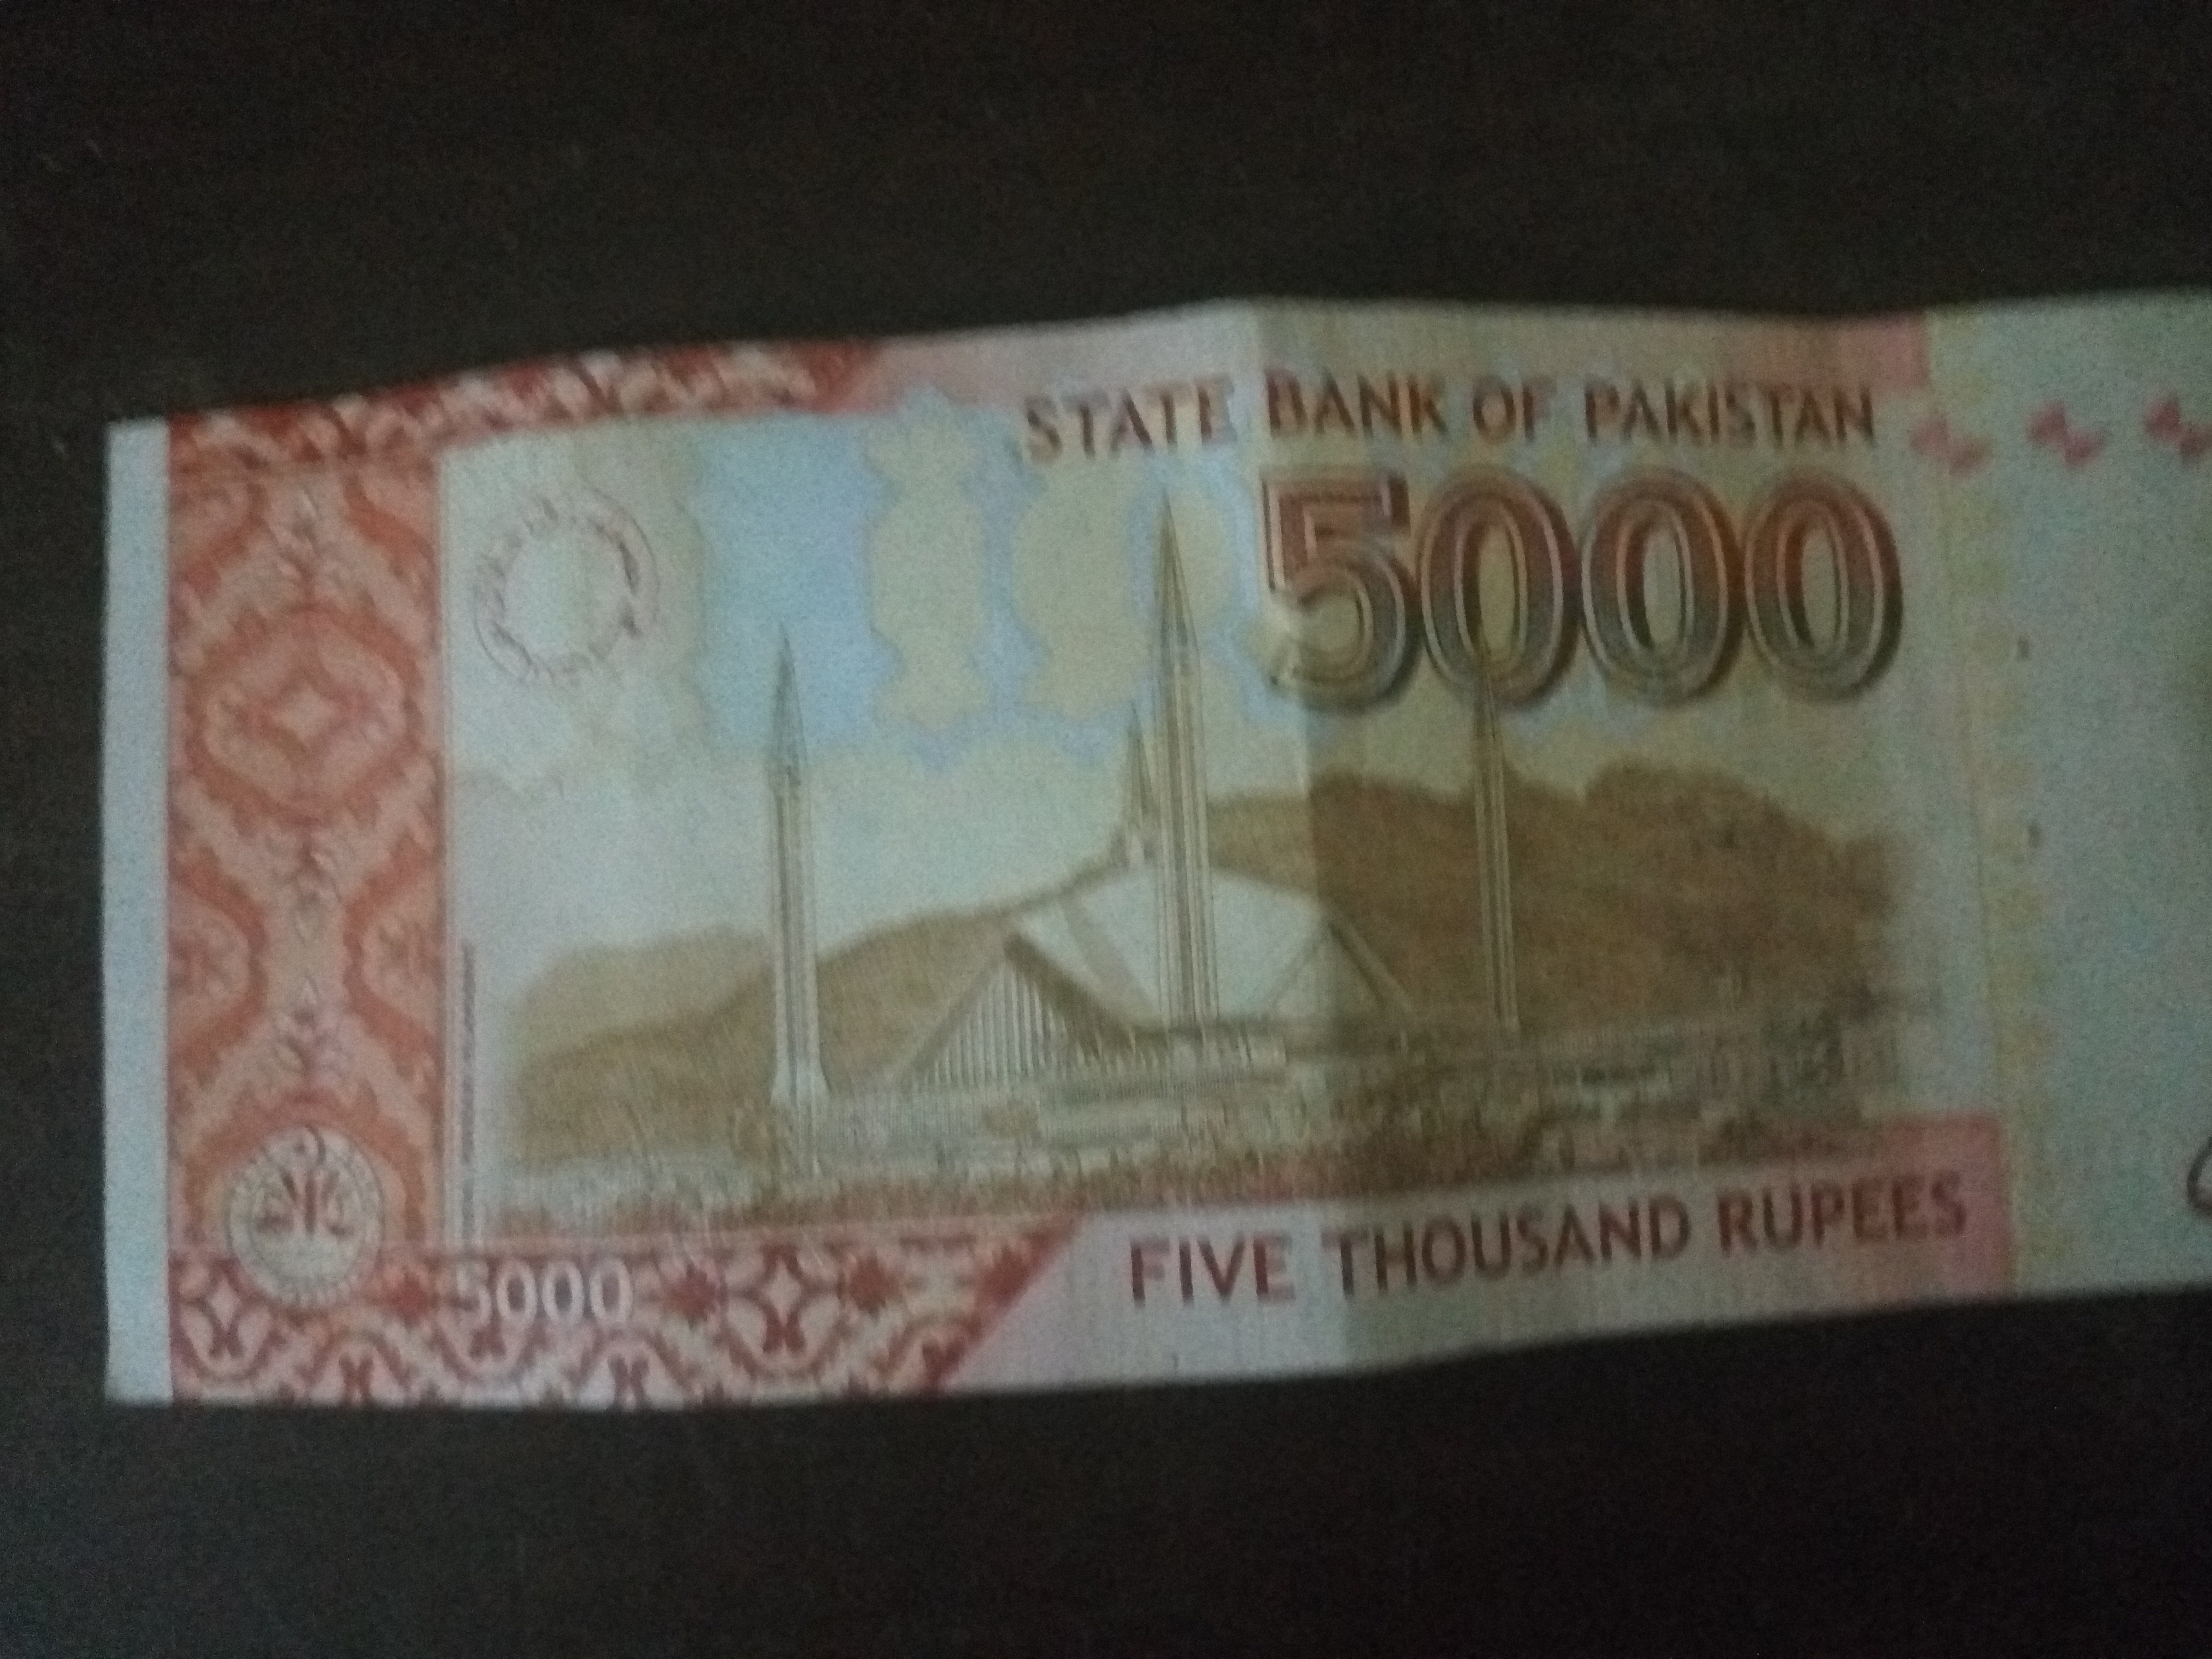5000 rupee: (85, 303, 2179, 1493)
